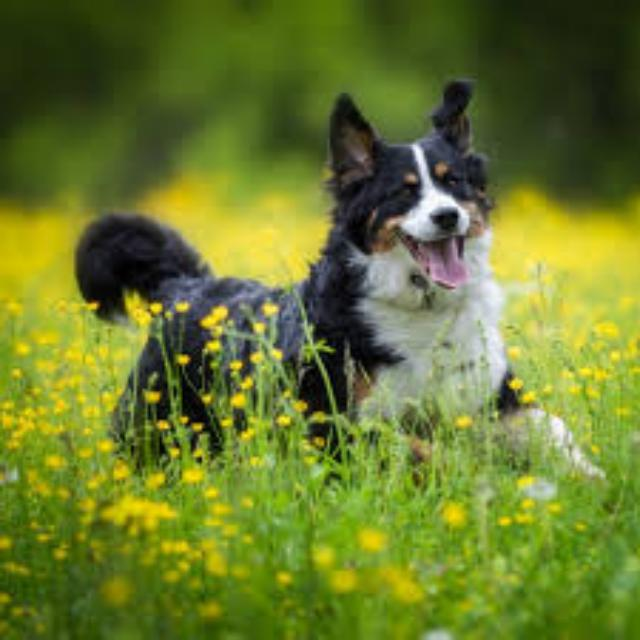dog: (296, 66, 514, 332)
